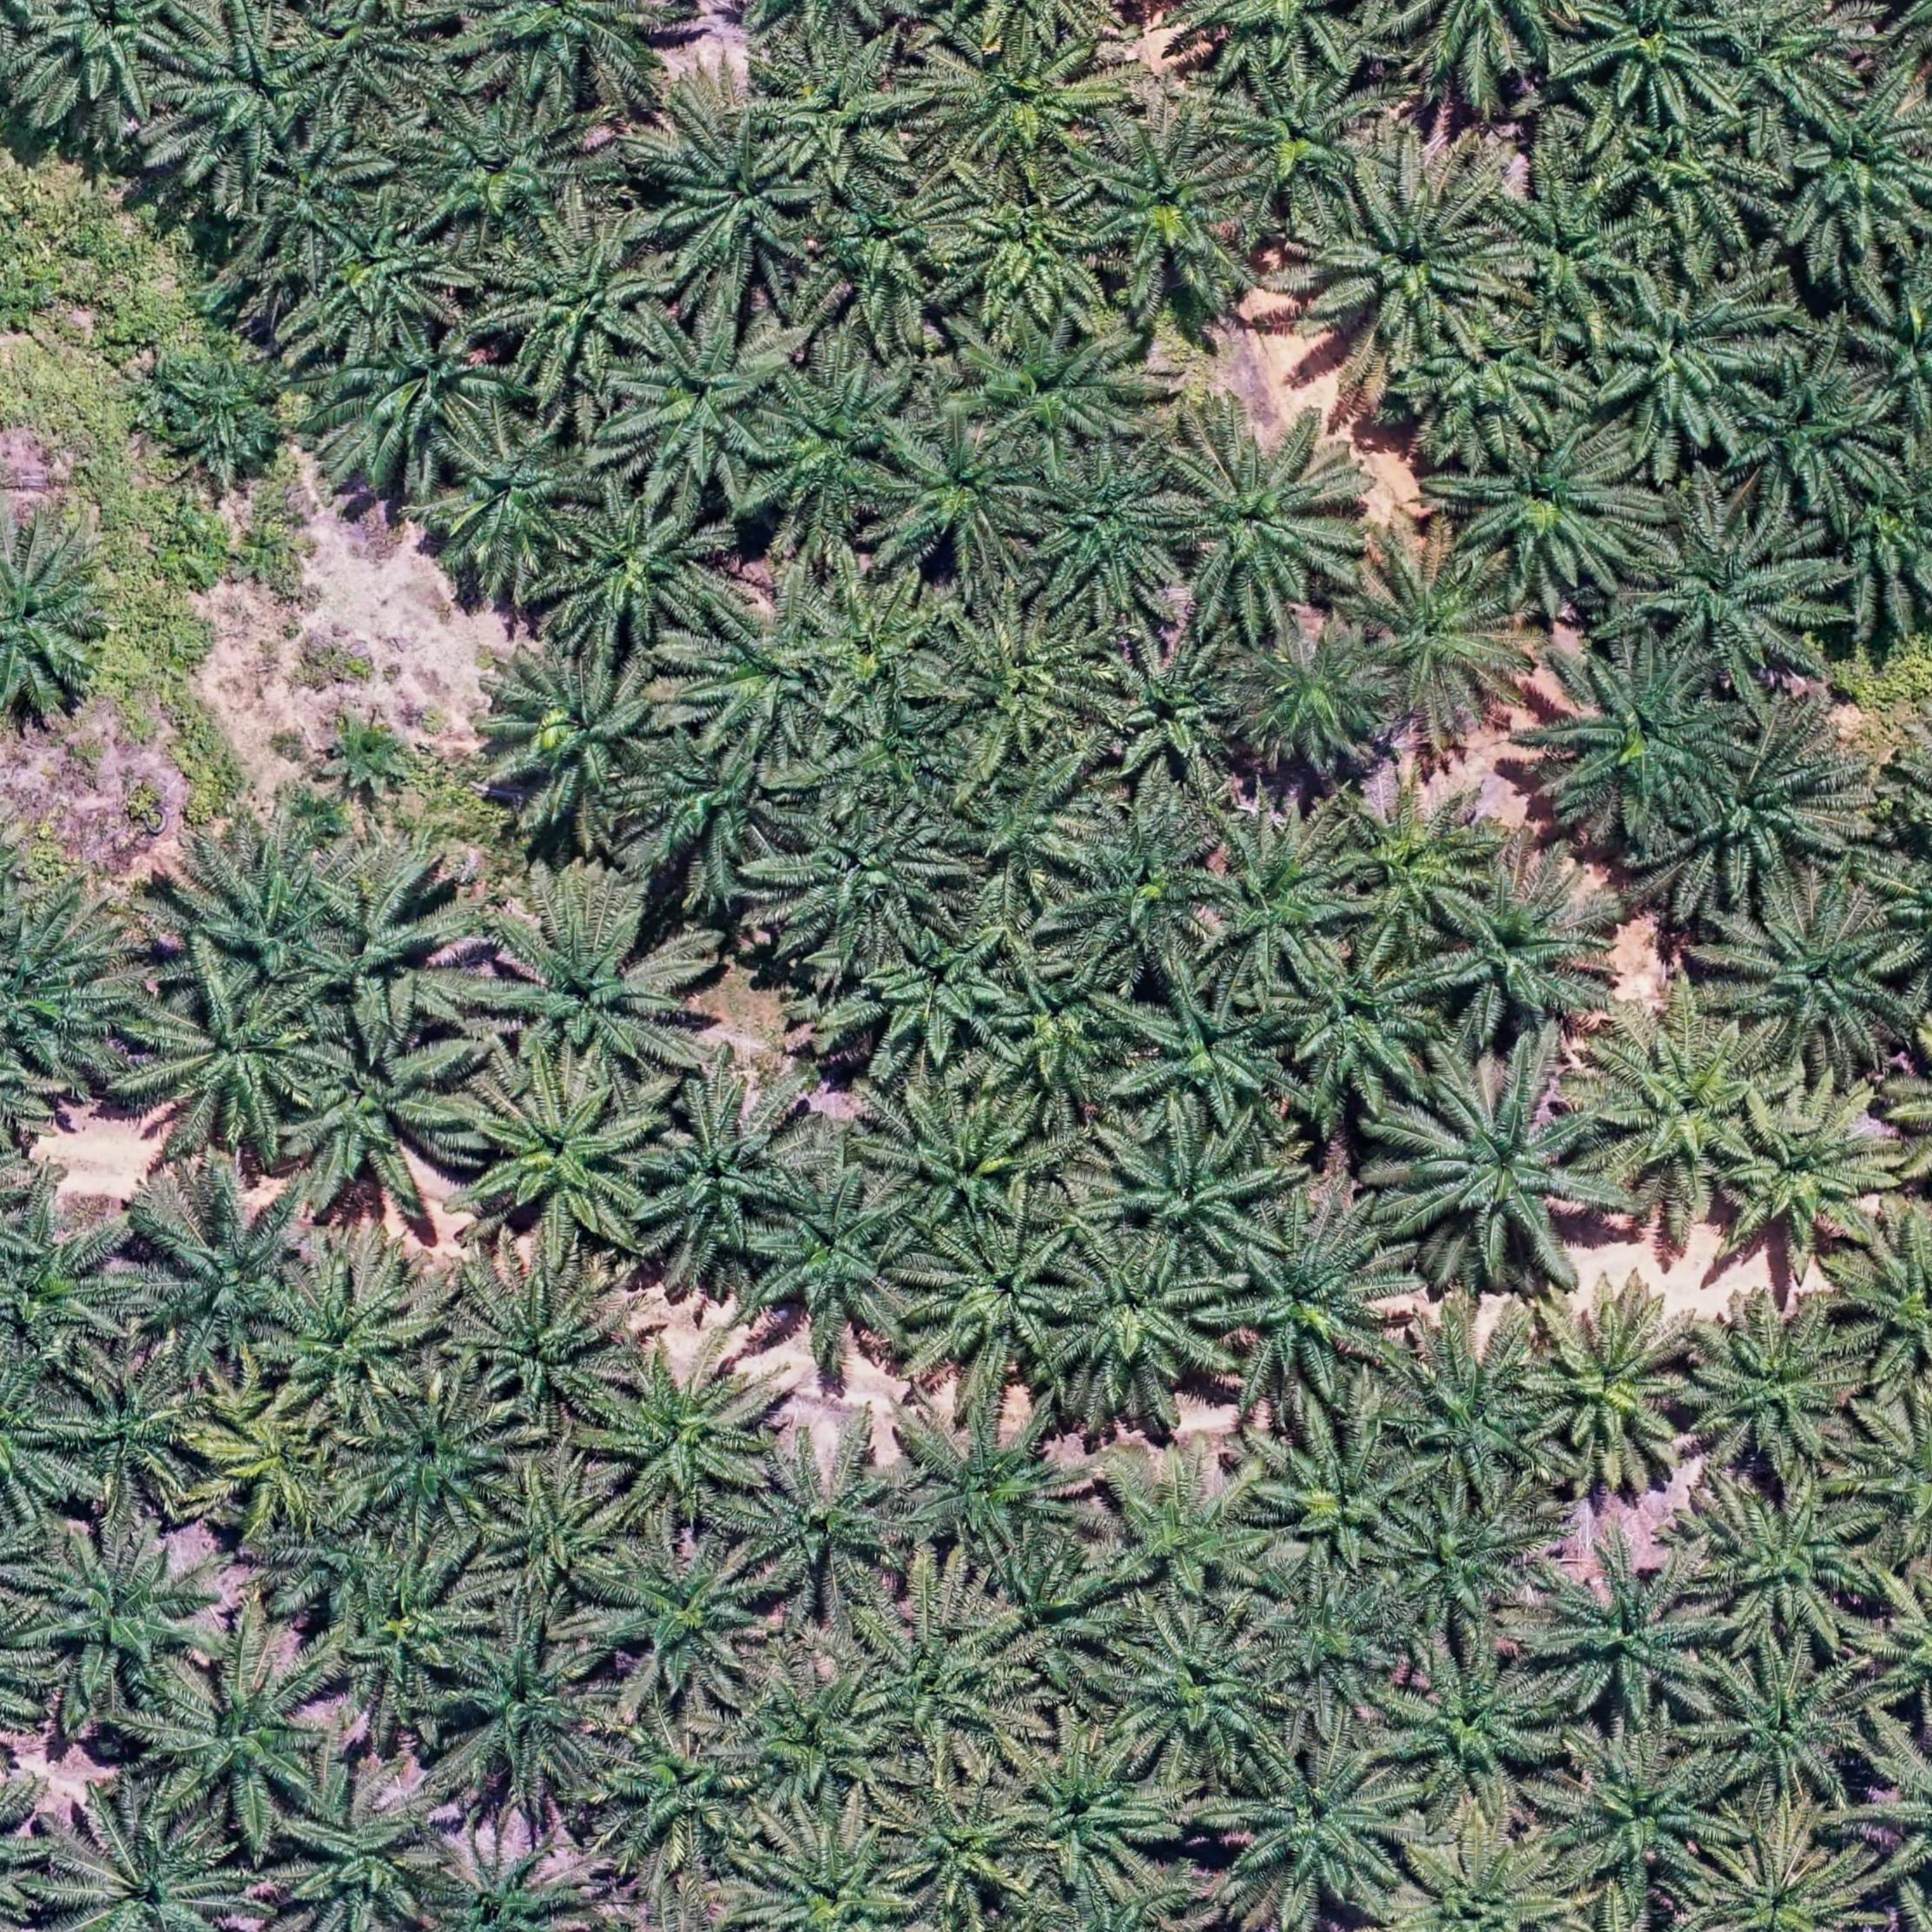palmtree: (1387, 1056, 1621, 1284), (1302, 170, 1520, 370), (478, 890, 697, 1088), (1532, 642, 1743, 839), (1166, 418, 1366, 621), (280, 1014, 479, 1212), (19, 1523, 226, 1711), (1585, 1007, 1787, 1194), (1214, 1207, 1408, 1399), (1629, 494, 1828, 683), (129, 1187, 320, 1380), (1219, 1737, 1422, 1918), (1716, 1083, 1909, 1270), (147, 1644, 341, 1828), (476, 646, 676, 824), (637, 1083, 823, 1274), (1594, 265, 1787, 449), (1523, 1293, 1711, 1481), (1723, 888, 1916, 1070), (1663, 729, 1856, 909), (467, 1072, 662, 1251), (1454, 426, 1652, 600), (1534, 1546, 1723, 1727), (1697, 1477, 1888, 1656), (1350, 543, 1532, 729), (446, 1260, 637, 1437), (134, 978, 329, 1152), (1433, 863, 1617, 1044), (433, 1622, 619, 1801), (163, 839, 364, 1003), (890, 1401, 1086, 1569), (619, 315, 801, 495), (1077, 117, 1258, 299), (1688, 1302, 1874, 1477), (290, 853, 472, 1030), (587, 1532, 771, 1706), (1382, 1640, 1568, 1812), (649, 111, 826, 290), (317, 1536, 497, 1711), (1092, 1458, 1284, 1621), (754, 1171, 932, 1346), (1552, 1734, 1734, 1905), (407, 92, 607, 248), (594, 1339, 773, 1513), (260, 1260, 441, 1430), (1046, 1235, 1228, 1403), (1000, 1730, 1178, 1900), (1272, 941, 1453, 1109), (1769, 80, 1932, 265), (1486, 157, 1656, 334), (768, 803, 961, 959), (1109, 1608, 1290, 1775), (274, 1753, 446, 1927), (1329, 778, 1499, 954), (740, 1440, 916, 1608), (324, 315, 510, 474), (1727, 349, 1900, 518), (867, 1088, 1058, 1242), (1120, 980, 1300, 1143), (941, 168, 1123, 329), (1394, 1323, 1562, 1497), (589, 1716, 764, 1882), (1062, 803, 1238, 968), (752, 32, 931, 195), (548, 485, 729, 646), (1021, 446, 1192, 614), (908, 1217, 1083, 1382), (1702, 1647, 1881, 1808), (1256, 1415, 1435, 1576), (1196, 816, 1364, 984), (1092, 633, 1261, 800), (1382, 1486, 1559, 1645), (934, 28, 1123, 177), (1102, 1122, 1284, 1276), (985, 948, 1154, 1115), (729, 1652, 902, 1813), (492, 223, 667, 382), (938, 603, 1122, 754), (757, 359, 924, 525), (1612, 106, 1787, 264), (44, 1799, 251, 1932), (628, 736, 809, 888), (165, 12, 334, 173), (0, 899, 140, 1093), (1228, 617, 1403, 771), (435, 421, 598, 584), (853, 920, 1028, 1070), (807, 170, 968, 333), (876, 425, 1046, 579), (966, 322, 1148, 465), (865, 1610, 1028, 1769), (350, 1389, 520, 1539), (51, 1357, 214, 1509), (1412, 304, 1578, 453), (1221, 69, 1387, 214), (676, 600, 837, 747), (303, 195, 460, 343), (460, 0, 678, 106), (1247, 1569, 1408, 1709), (1704, 0, 1870, 134), (479, 1468, 635, 1612), (1562, 0, 1739, 124), (163, 343, 315, 487), (977, 1546, 1129, 1690), (200, 1396, 352, 1536), (0, 1212, 138, 1366), (23, 0, 203, 117), (743, 1819, 929, 1932), (890, 1782, 1040, 1918), (809, 577, 959, 711), (0, 536, 106, 725), (962, 763, 1109, 893), (1697, 1829, 1882, 1932), (1392, 1833, 1582, 1932), (1831, 433, 1932, 612), (290, 0, 449, 111), (1835, 1217, 1932, 1396), (426, 1835, 605, 1932), (830, 704, 962, 812), (257, 147, 377, 264)
